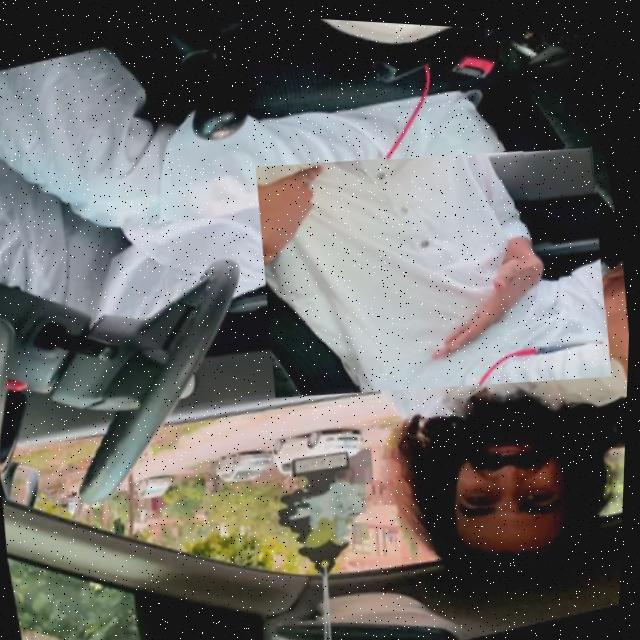no-seatbelt: (248, 120, 620, 408)
